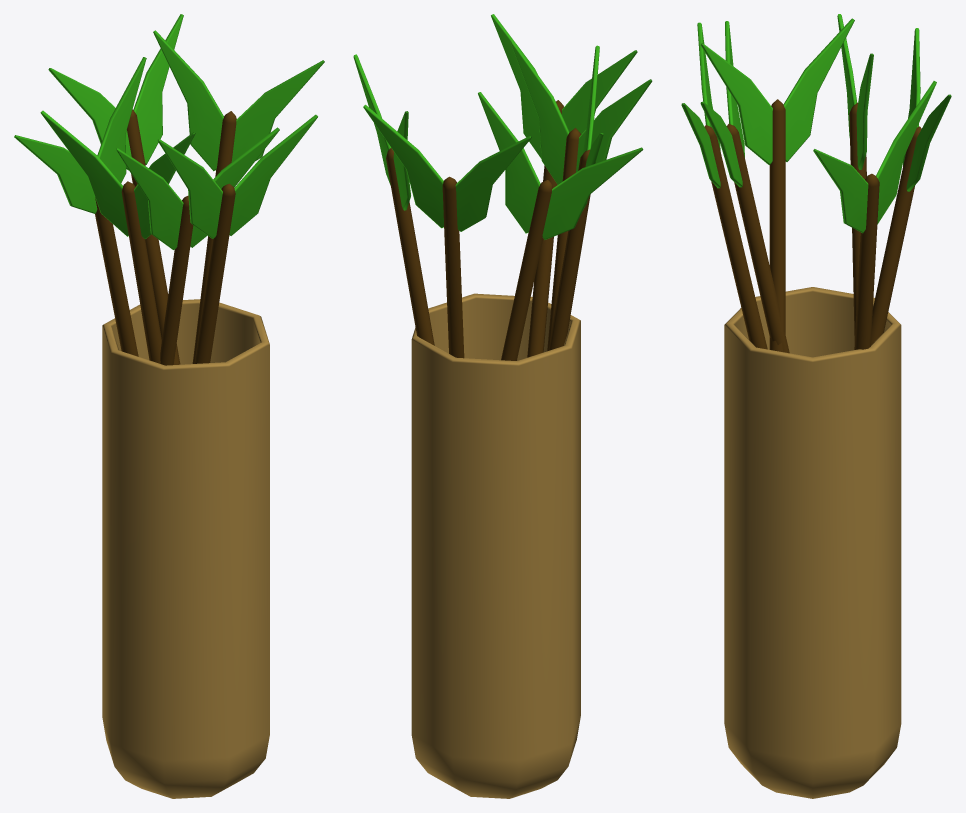
File: Arrow Holder.fbx
The picture shows the model from 3 angles, left to right: view 1: azimuth 30°, elevation 25°; view 2: azimuth 150°, elevation 25°; view 3: azimuth 270°, elevation 25°; orthographic projection.
Visible parts, largest first — view 1: pCube19; view 2: pCube19; view 3: pCube19.
Boxes of the visible parts, bbox=[...] form: pCube19: bbox=[14, 14, 324, 798]; pCube19: bbox=[353, 14, 652, 798]; pCube19: bbox=[681, 14, 951, 798].
Bounding box in the file's own units: 0.8746 × 1.99 × 0.6722.
2 materials, 1 textured.
